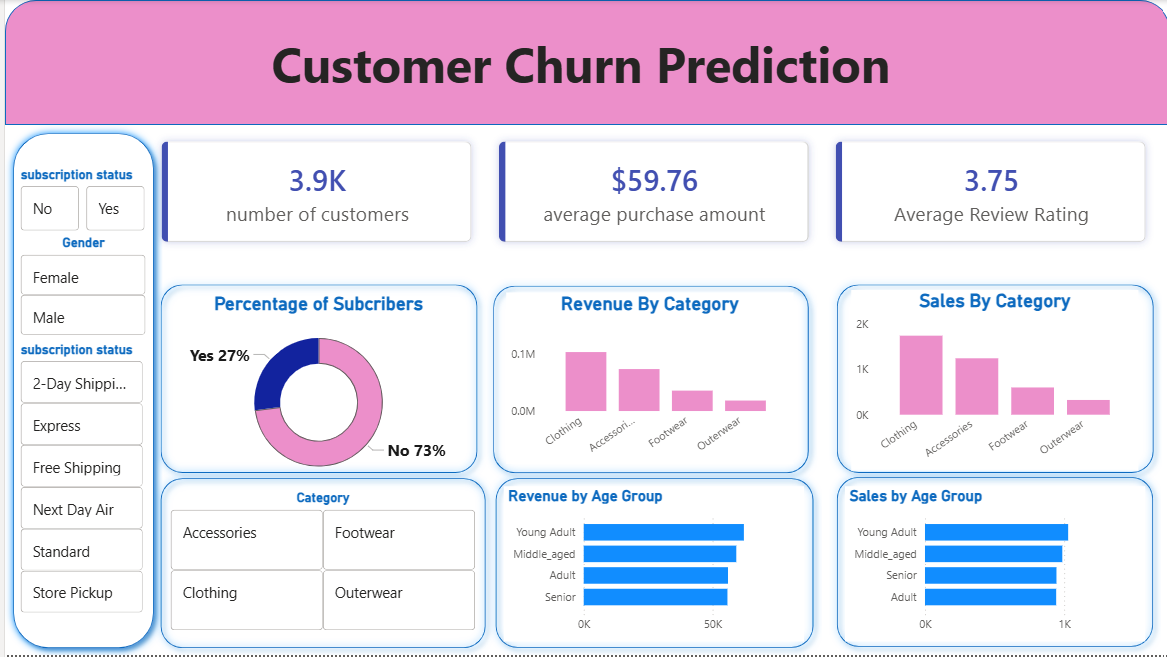

Layout of this report page (visuals, bound fields, positions):
{"tool":"powerbi","page":{"name":"Page 1","canvas":[1280,720],"ordinal":0},"visuals":[{"type":"cardVisual","fields":{"Data":["customer.number of customers","customer.average purchase amount","customer.Average Review Rating"]},"box":[144.3,127.2,1136,166.3],"z":0},{"type":"shape","box":[0,0,1280.3,137.2],"z":1000},{"type":"textbox","box":[212.7,28.8,853.5,108.4],"z":2000},{"type":"donutChart","title":"Percentage of Subcribers","fields":{"Category":["customer.subscription_status"],"Y":["CountNonNull(customer.customer_id)"]},"box":[172.9,321.1,343.1,218.2],"z":3000},{"type":"shape","box":[161.4,303.3,365.6,225],"z":4000},{"type":"shape","box":[527,304.5,364.4,223.8],"z":5000},{"type":"shape","box":[903.7,303.3,365.6,225],"z":6000},{"type":"clusteredColumnChart","title":"Revenue By Category","fields":{"Y":["Sum(customer.purchase_amount)"],"Category":["customer.category"]},"box":[550.3,321.6,315.5,188.3],"z":7000},{"type":"clusteredColumnChart","title":"Sales By Category","fields":{"Y":["CountNonNull(customer.customer_id)"],"Category":["customer.category"]},"box":[929.4,317.9,315.5,198.1],"z":8000},{"type":"shape","box":[0,137,172.4,583.3],"z":9000},{"type":"advancedSlicerVisual","title":"subscription status","fields":{"Values":["customer.subscription_status"]},"box":[12.2,182.2,148,75.8],"z":10000},{"type":"advancedSlicerVisual","title":"Gender","fields":{"Values":["customer.gender"]},"box":[12.2,258,148,116.2],"z":11000},{"type":"advancedSlicerVisual","title":"Category","fields":{"Values":["customer.category"]},"box":[177,537.9,344.4,159.2],"z":12000},{"type":"advancedSlicerVisual","title":"subscription status","fields":{"Values":["customer.shipping_type"]},"box":[12.2,374.2,144.3,306.9],"z":13000},{"type":"shape","box":[529.5,516,366.8,204.2],"z":13001},{"type":"shape","box":[161.9,516,374.6,204.5],"z":13002},{"type":"shape","box":[904.3,514.6,365,204.5],"z":13003},{"type":"clusteredBarChart","title":"Revenue by Age Group","fields":{"Y":["Sum(customer.purchase_amount)"],"Category":["customer.age_group"]},"box":[547.5,533.8,329.3,170.2],"z":13004},{"type":"clusteredBarChart","title":"Sales by Age Group","fields":{"Y":["CountNonNull(customer.customer_id)"],"Category":["customer.age_group"]},"box":[922.1,533.8,329.3,170.2],"z":13005}]}

Visuals, with their boxes in screenshot pixels (x1, y1, x2, y2), scaled from the page's 1280x720 canvas onto the 1167x657 screenshot:
cardVisual - customer.number of customers x customer.average purchase amount: 132,116,1166,268
shape: 0,0,1166,125
textbox: 194,26,972,125
"Percentage of Subcribers" donutChart: 158,293,470,492
shape: 147,277,480,482
shape: 480,278,813,482
shape: 824,277,1157,482
"Revenue By Category" clusteredColumnChart: 502,293,789,465
"Sales By Category" clusteredColumnChart: 847,290,1135,471
shape: 0,125,157,656
"subscription status" advancedSlicerVisual: 11,166,146,235
"Gender" advancedSlicerVisual: 11,235,146,341
"Category" advancedSlicerVisual: 161,491,475,636
"subscription status" advancedSlicerVisual: 11,341,143,622
shape: 483,471,817,656
shape: 148,471,489,656
shape: 824,470,1157,656
"Revenue by Age Group" clusteredBarChart: 499,487,799,642
"Sales by Age Group" clusteredBarChart: 841,487,1141,642
